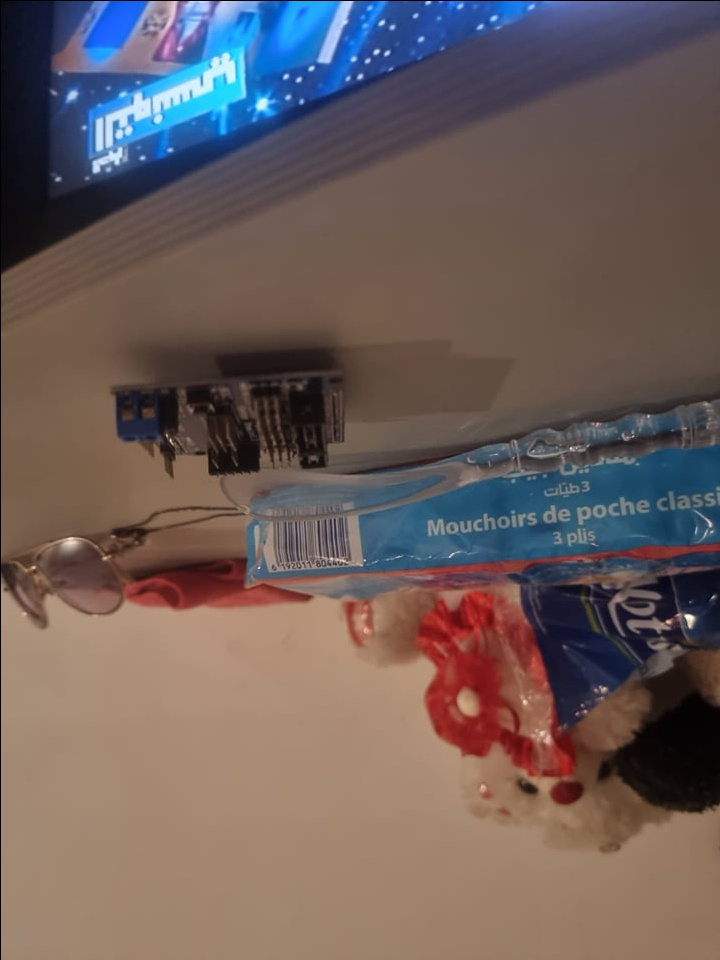5V EXPANSION: (102, 342, 350, 485)
